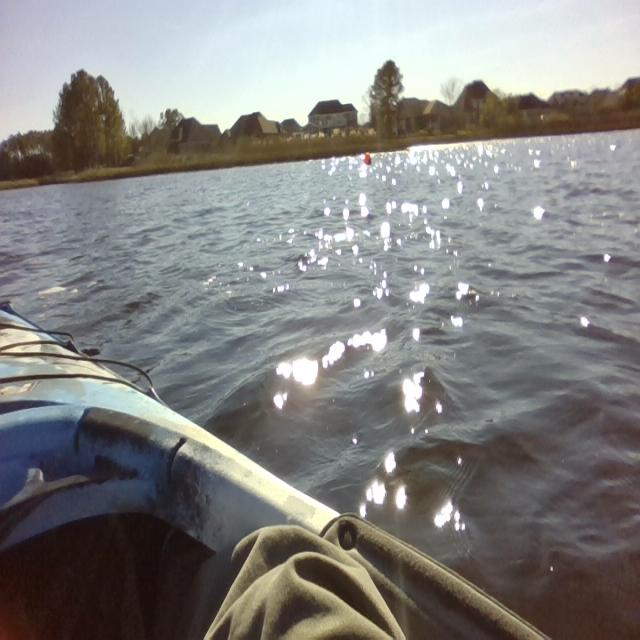Buoy: (359, 146, 374, 174)
